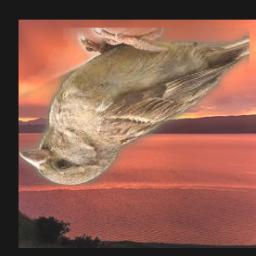Sparrow: (19, 29, 250, 186)
